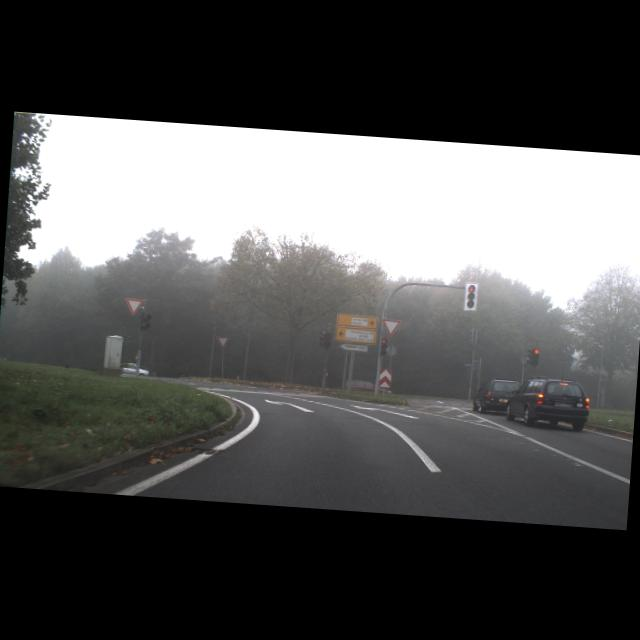other: (380, 318, 401, 337), (124, 297, 143, 315), (215, 334, 230, 348)
